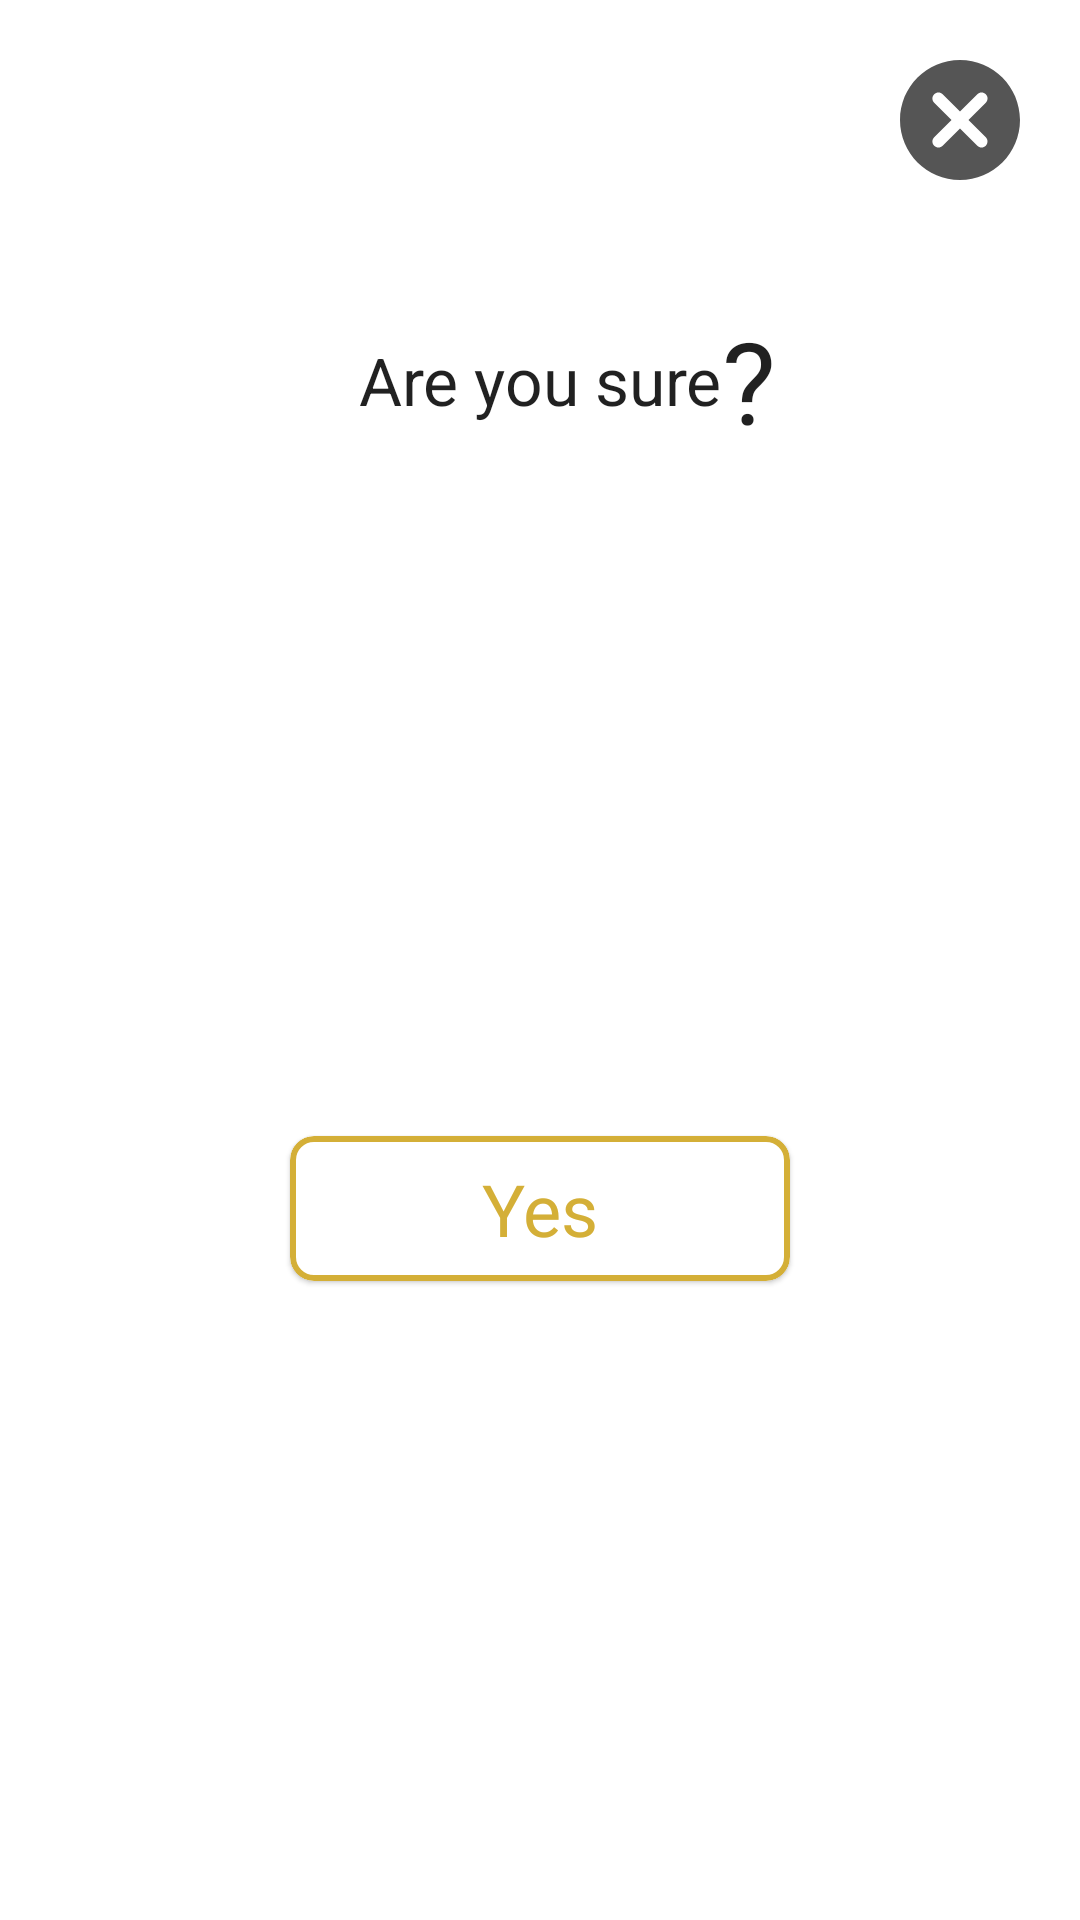

Where to tap for icons on this 1080px×1920px app screen, as [x,y]:
cancel icon: [960,120]
